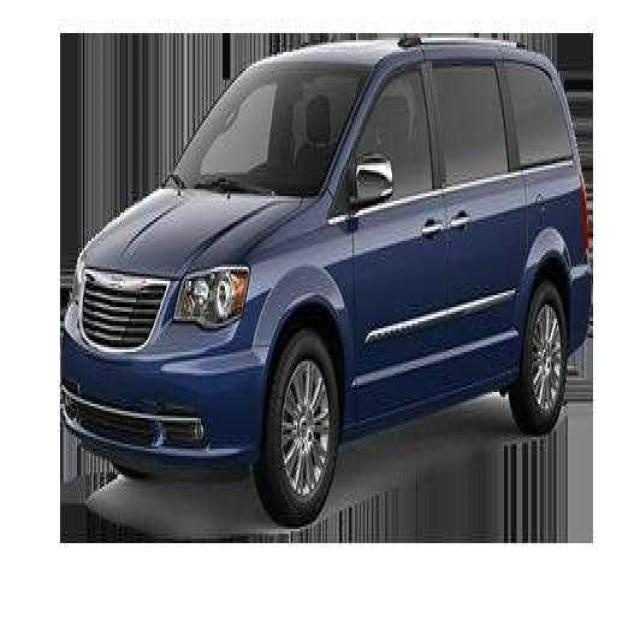Van: (57, 36, 594, 527)
